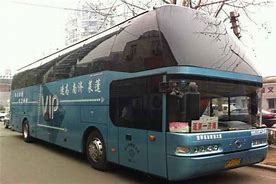bigcar: (6, 3, 273, 174)
